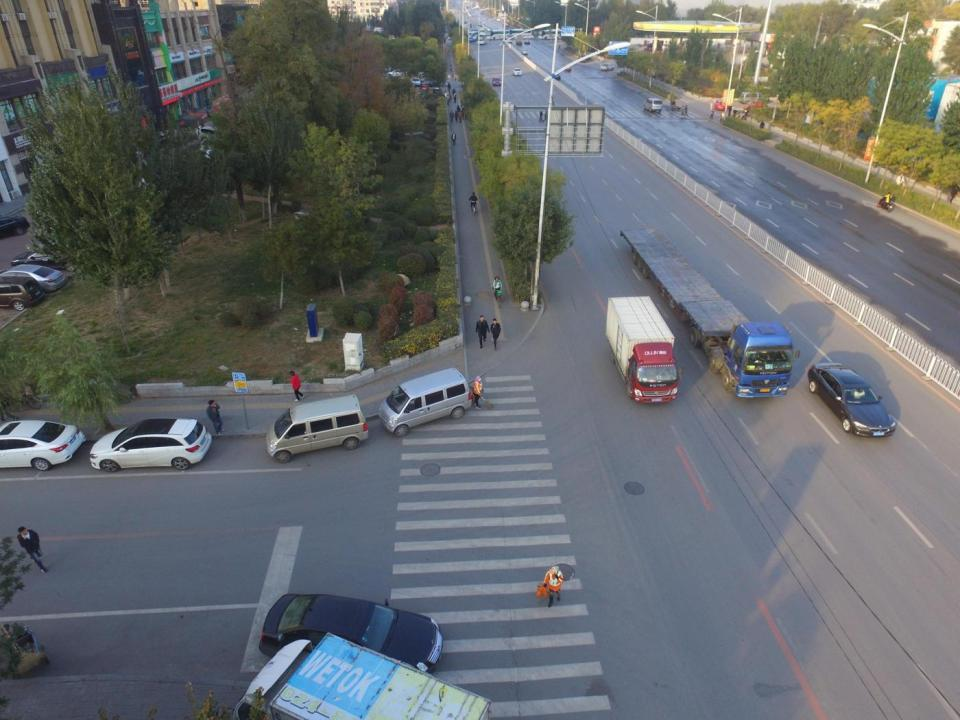bus: (490, 29, 534, 38), (541, 30, 564, 38), (474, 34, 490, 45), (468, 31, 478, 40)
car: (260, 590, 443, 678), (808, 358, 895, 437), (89, 418, 214, 469), (0, 420, 88, 470), (0, 266, 66, 296), (0, 275, 45, 309), (12, 251, 73, 271), (126, 130, 172, 154), (185, 148, 225, 168), (192, 136, 230, 154), (193, 125, 236, 140), (0, 216, 29, 238), (168, 117, 202, 133), (492, 76, 503, 87), (522, 33, 531, 46), (561, 62, 571, 71), (511, 68, 520, 77), (552, 72, 560, 82), (520, 48, 528, 56), (515, 37, 522, 44)
truck: (618, 227, 796, 396), (235, 633, 491, 720), (607, 297, 679, 402), (601, 63, 613, 75)
van: (266, 394, 370, 464), (378, 369, 474, 438), (640, 96, 664, 112)
